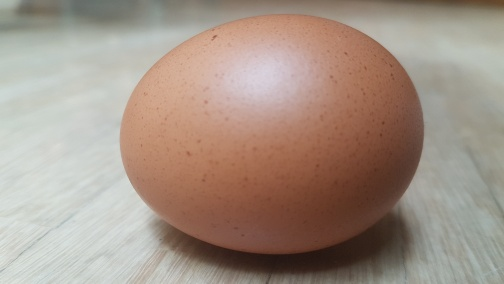egg: (117, 13, 426, 257)
